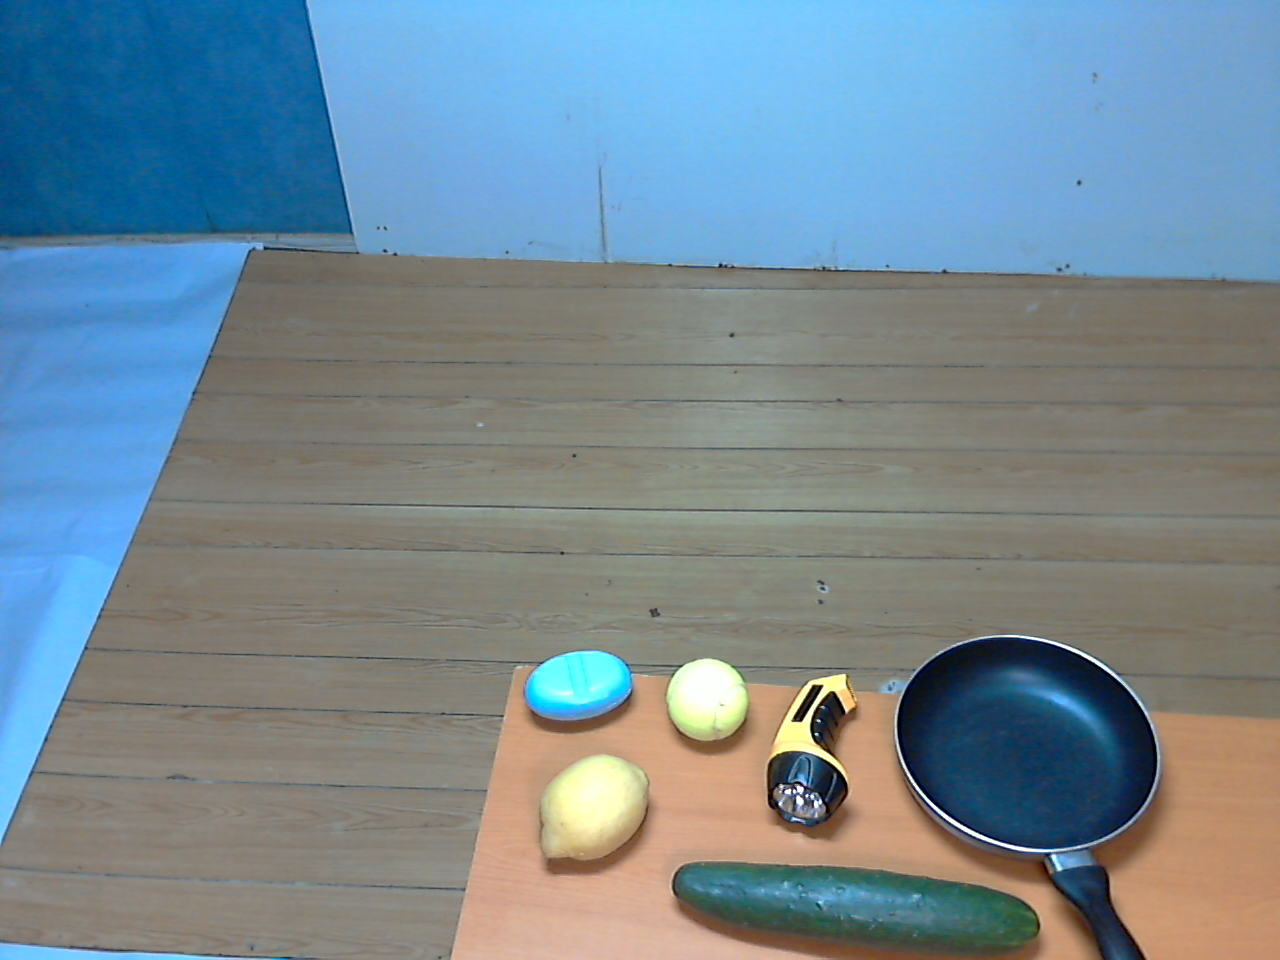jabon: (511, 641, 644, 741)
limon: (524, 744, 658, 878)
linterna: (754, 661, 876, 838)
pelota: (659, 646, 759, 763)
pepino: (663, 842, 1063, 960)
sarten: (882, 617, 1180, 960)
